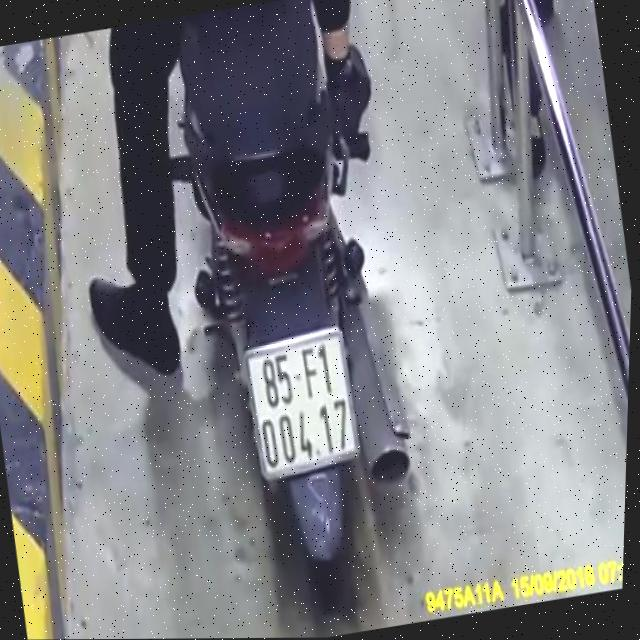motorcycle: (134, 0, 453, 632)
plate: (233, 324, 370, 483)
